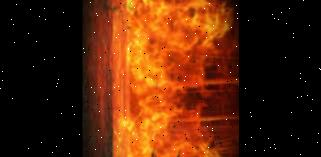fire: (111, 0, 233, 157)
